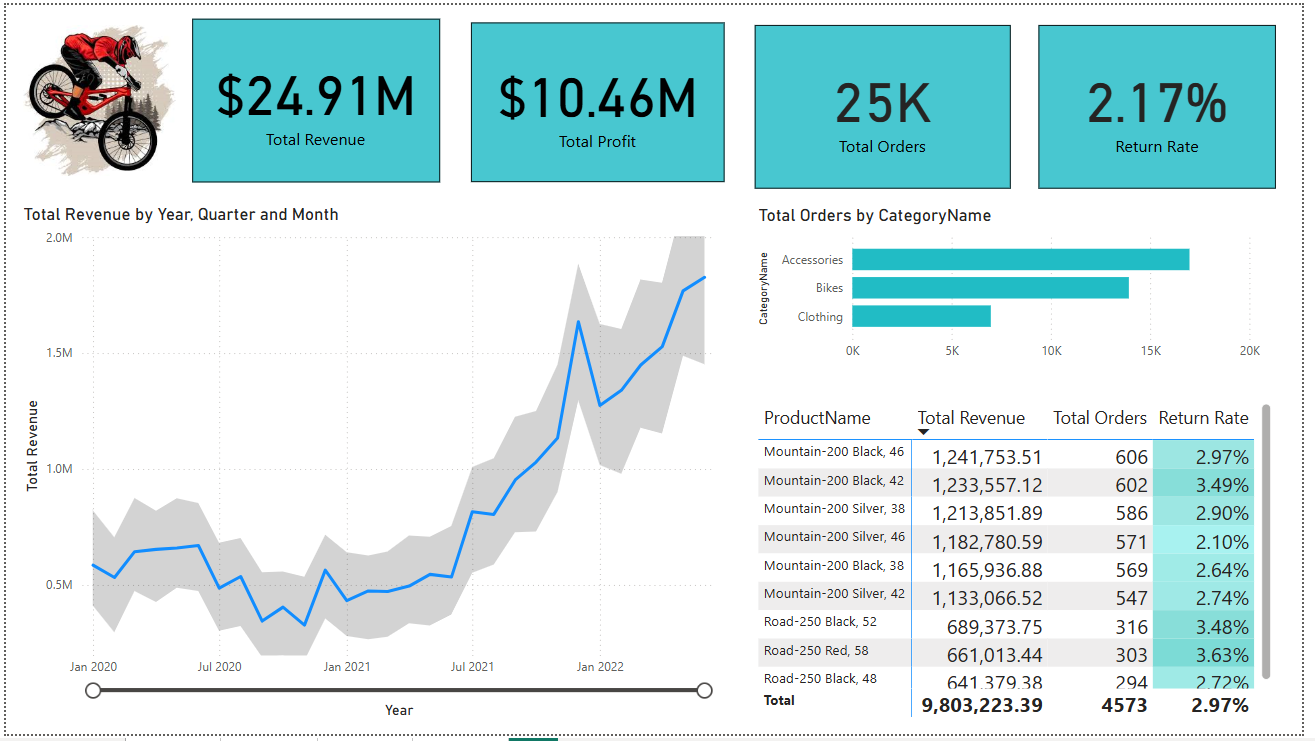

Layout of this report page (visuals, bound fields, positions):
{"tool":"powerbi","page":{"name":"Page 2","canvas":[1280,720],"ordinal":1},"visuals":[{"type":"card","fields":{"Values":["MEASURE TABLE.Total Revenue"]},"box":[183.4,13.5,244.6,161.4],"z":0,"group":"g1"},{"type":"group","id":"g1","title":"Group 1","box":[183.4,13.5,1071.2,167.5],"z":0},{"type":"card","fields":{"Values":["MEASURE TABLE.Total Profit"]},"box":[459.2,16.6,250.7,157.7],"z":1000,"group":"g1"},{"type":"image","box":[12.2,13.5,160.2,161.4],"z":1000},{"type":"card","fields":{"Values":["MEASURE TABLE.Total Orders"]},"box":[738.6,19.6,253.1,161.4],"z":2000,"group":"g1"},{"type":"lineChart","fields":{"Category":["Calendar Lookup.Start of Month.Variation.Date Hierarchy.Year","Calendar Lookup.Start of Month.Variation.Date Hierarchy.Quarter","Calendar Lookup.Start of Month.Variation.Date Hierarchy.Month","Calendar Lookup.Start of Month.Variation.Date Hierarchy.Day"],"Y":["MEASURE TABLE.Total Revenue"]},"box":[12.2,196.9,706.8,512.4],"z":2000},{"type":"card","fields":{"Values":["MEASURE TABLE.Return Rate"]},"box":[1019.8,19.6,234.8,161.4],"z":3000,"group":"g1"},{"type":"pivotTable","fields":{"Rows":["Product Lookup.ProductName"],"Values":["MEASURE TABLE.Total Revenue","MEASURE TABLE.Total Orders","MEASURE TABLE.Return Rate"]},"box":[738.3,388.3,516,319.7],"z":3000},{"type":"clusteredBarChart","fields":{"Category":["Product Categories Lookup.CategoryName"],"Y":["MEASURE TABLE.Total Orders"]},"box":[738.3,197.6,505,161.9],"z":4000}]}

Visuals, with their boxes in screenshot pixels (x1, y1, x2, y2), scaled from the page's 1280x720 canvas onto the 1315x741 screenshot:
card - MEASURE TABLE.Total Revenue: bbox=(188, 14, 440, 180)
"Group 1" group: bbox=(188, 14, 1289, 186)
card - MEASURE TABLE.Total Profit: bbox=(472, 17, 729, 179)
image: bbox=(13, 14, 177, 180)
card - MEASURE TABLE.Total Orders: bbox=(759, 20, 1019, 186)
lineChart - Calendar Lookup.Start of Month.Variation.Date Hierarchy.Year x Calendar Lookup.Start of Month.Variation.Date Hierarchy.Quarter: bbox=(13, 203, 739, 730)
card - MEASURE TABLE.Return Rate: bbox=(1048, 20, 1289, 186)
pivotTable - Product Lookup.ProductName x MEASURE TABLE.Total Revenue: bbox=(758, 400, 1289, 729)
clusteredBarChart - Product Categories Lookup.CategoryName x MEASURE TABLE.Total Orders: bbox=(758, 203, 1277, 370)
